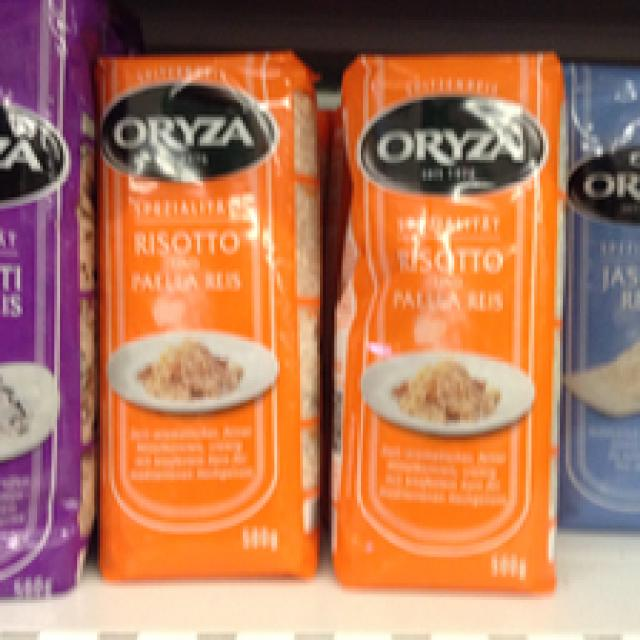groceries: (326, 49, 568, 592), (86, 43, 317, 577), (0, 0, 89, 597)
